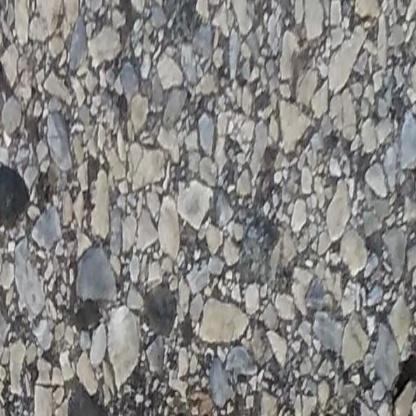Cracks: (393, 355, 416, 409)
